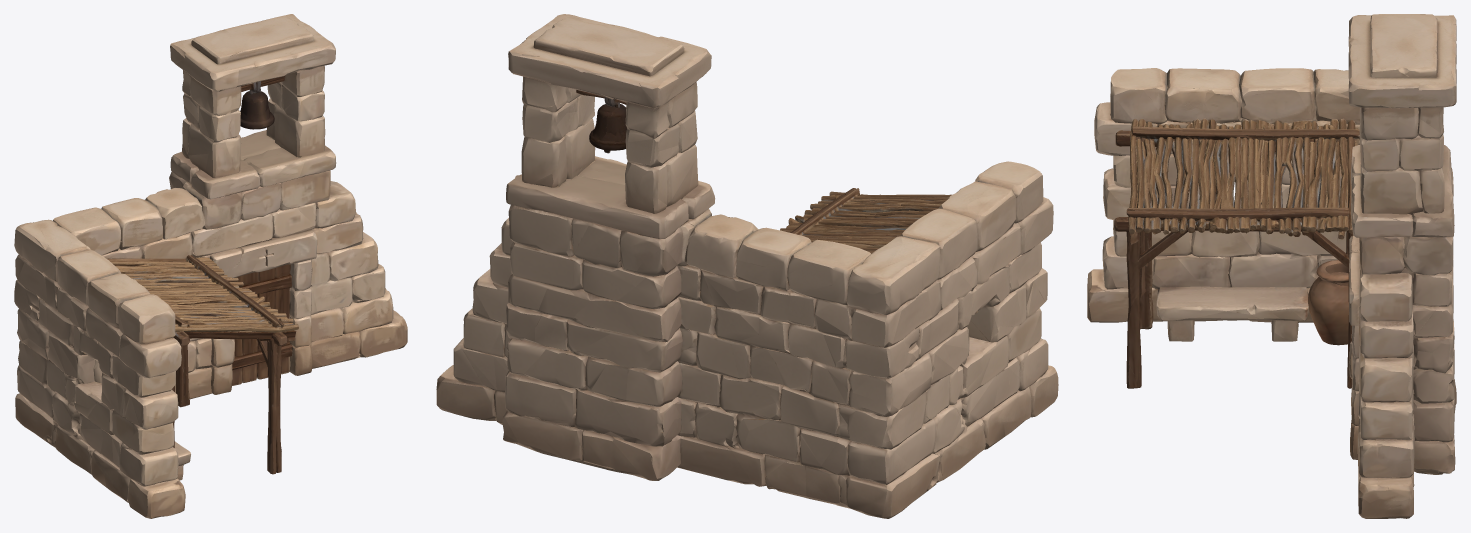
Rendered from monastery-hero.glb.
The picture shows the model from 3 angles, left to right: view 1: azimuth 30°, elevation 25°; view 2: azimuth 150°, elevation 25°; view 3: azimuth 270°, elevation 25°; orthographic projection. The views are drawn at different scales.
Parts seen in each view (by area): view 1: mesh_node; view 2: mesh_node; view 3: mesh_node.
Boxes of the visible parts, <box> form: mesh_node: <box>14,14,407,518</box>; mesh_node: <box>436,14,1058,518</box>; mesh_node: <box>1087,14,1456,518</box>.
Size of the model in its own units: 1.9 by 1.61 by 1.35.
1 material, 1 textured.
